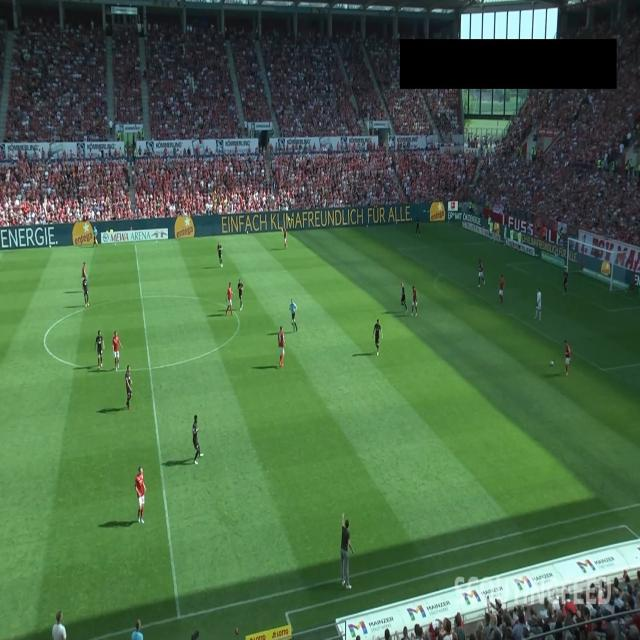ball: (550, 360, 554, 366)
